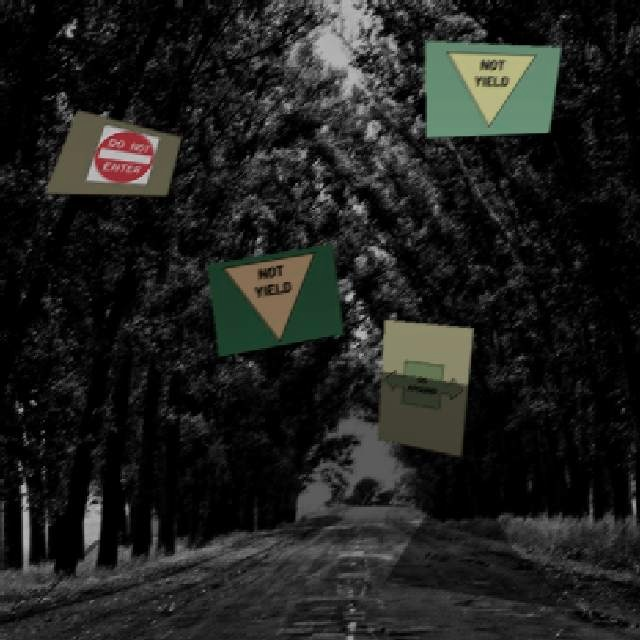DO_NOT_ENTER: (83, 122, 160, 189)
GO_AROUND: (381, 349, 463, 415)
NOT_YIELD: (217, 249, 327, 348), (441, 50, 534, 129)
